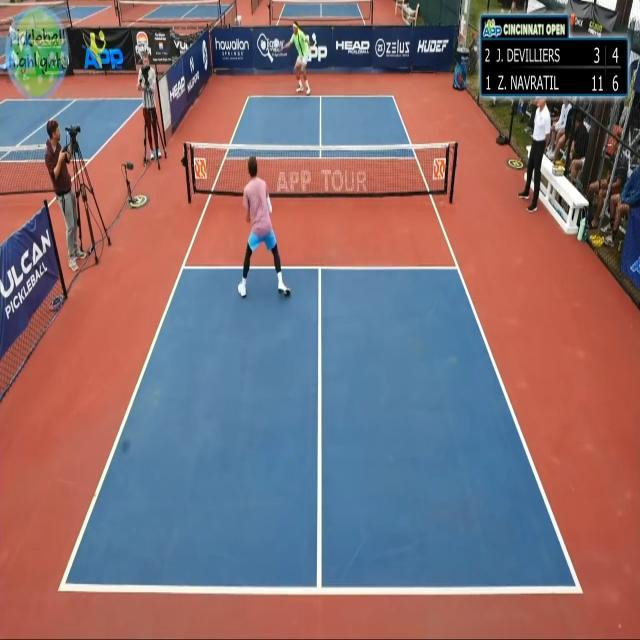Court: (62, 96, 579, 590)
